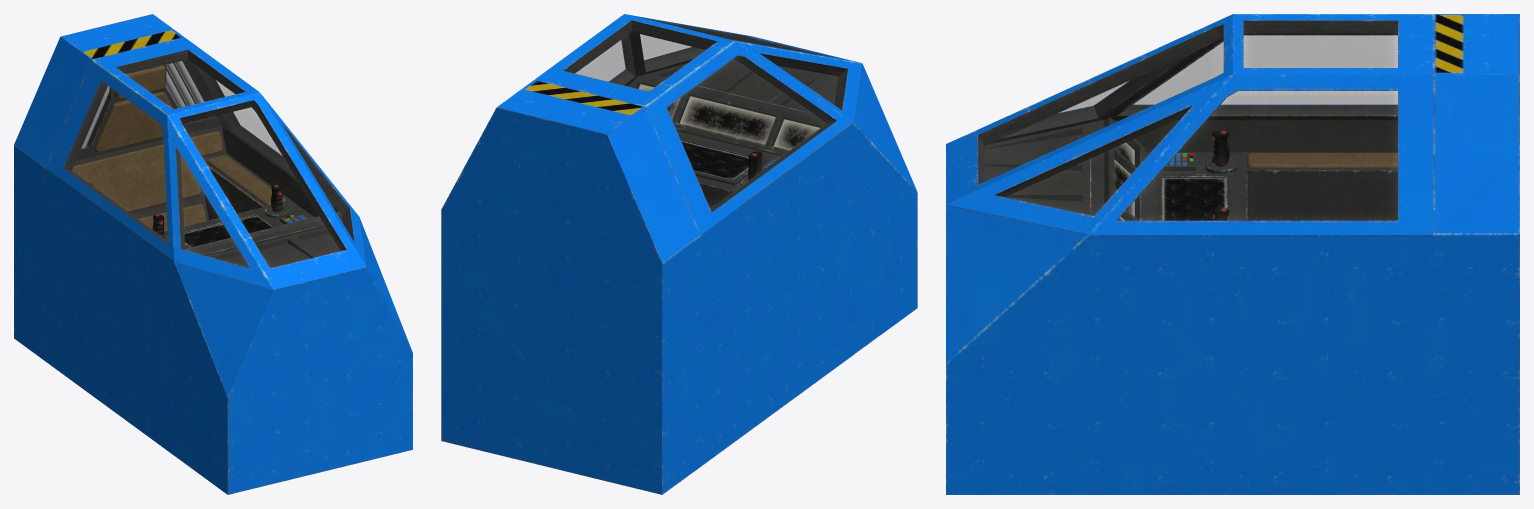
Rendered from cockpit.glb.
3 views of the same model, side by side, from view 1: azimuth 30°, elevation 25°; view 2: azimuth 150°, elevation 25°; view 3: azimuth 270°, elevation 25° (orthographic). The views are drawn at different scales.
Parts seen in each view (by area): view 1: Base_Steel - Satin_0, CanopyGlass_Glass (Clear)_0, Neck_Plastic (Tan)_0, UpperPipe_Chrome_0, Body1_Emmissive Blue_0, Ball_Plastic - Glossy (Black)_0; view 2: Base_Steel - Satin_0, CanopyGlass_Glass (Clear)_0, Body1_Emmissive Blue_0; view 3: Base_Steel - Satin_0, CanopyGlass_Glass (Clear)_0, Body1_Emmissive Blue_0, Neck_Plastic (Tan)_0, Ball_Plastic - Glossy (Black)_0.
Part boxes in pixels (x1=…): Base_Steel - Satin_0: x1=14, y1=14, x2=412, y2=494; CanopyGlass_Glass (Clear)_0: x1=68, y1=55, x2=348, y2=267; Neck_Plastic (Tan)_0: x1=72, y1=65, x2=285, y2=231; UpperPipe_Chrome_0: x1=81, y1=61, x2=209, y2=148; Body1_Emmissive Blue_0: x1=184, y1=215, x2=289, y2=247; Ball_Plastic - Glossy (Black)_0: x1=152, y1=185, x2=283, y2=238; Base_Steel - Satin_0: x1=441, y1=14, x2=917, y2=494; CanopyGlass_Glass (Clear)_0: x1=570, y1=26, x2=842, y2=209; Body1_Emmissive Blue_0: x1=639, y1=84, x2=820, y2=179; Base_Steel - Satin_0: x1=946, y1=14, x2=1519, y2=494; CanopyGlass_Glass (Clear)_0: x1=981, y1=27, x2=1397, y2=219; Body1_Emmissive Blue_0: x1=1114, y1=142, x2=1225, y2=220; Neck_Plastic (Tan)_0: x1=1247, y1=153, x2=1397, y2=167; Ball_Plastic - Glossy (Black)_0: x1=1212, y1=131, x2=1229, y2=220.
Bounding box in the file's own units: 1 × 1.5 × 2.
11 materials, 10 textured.
